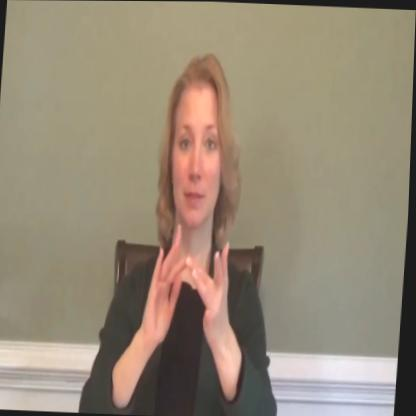Internet: (138, 204, 248, 366)
